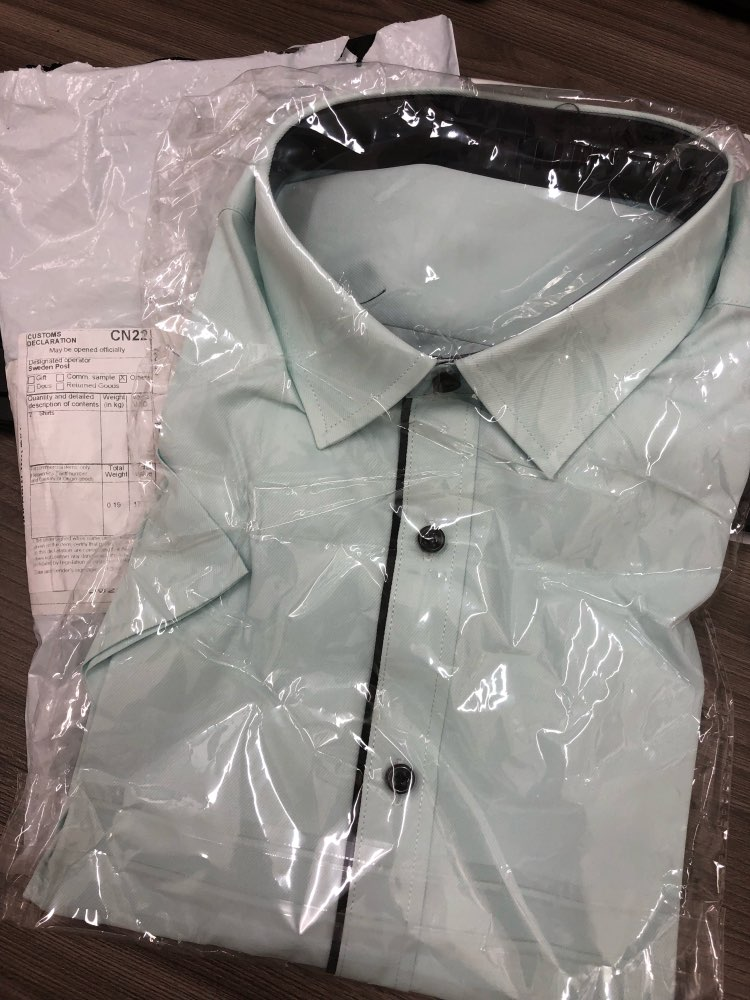shirts: (136, 128, 740, 1000)
